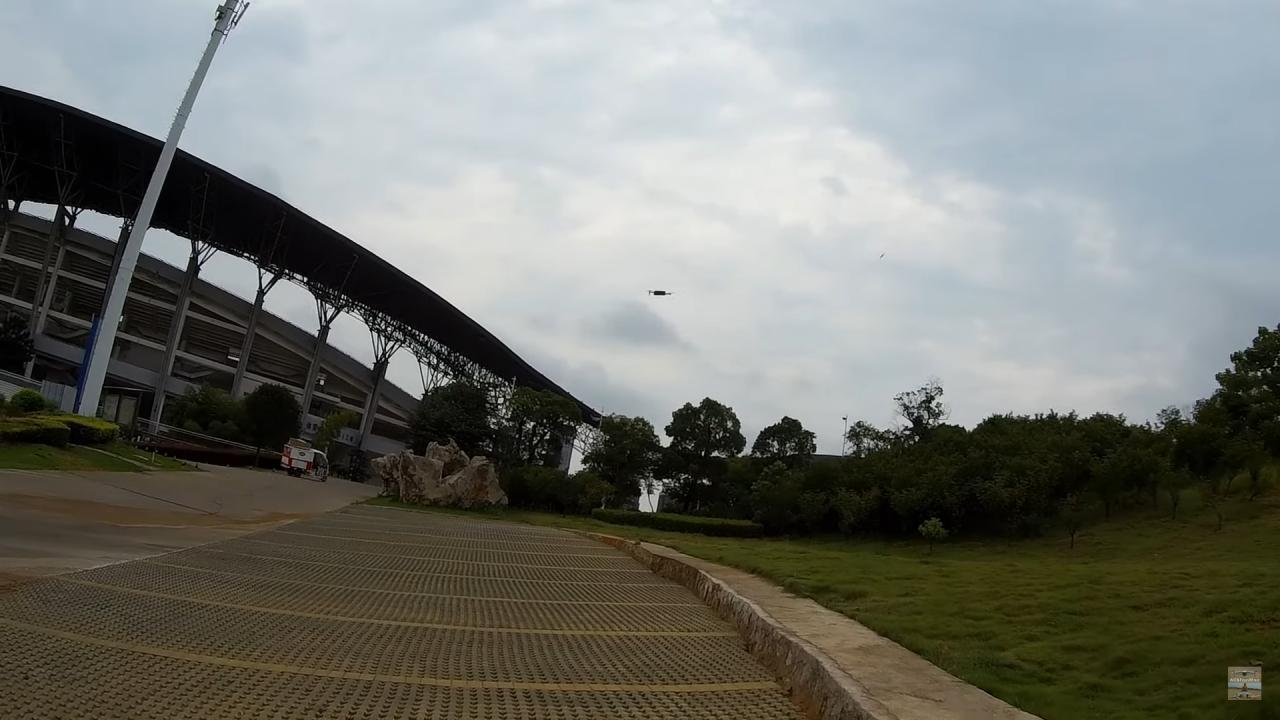Drone: (640, 283, 680, 302)
